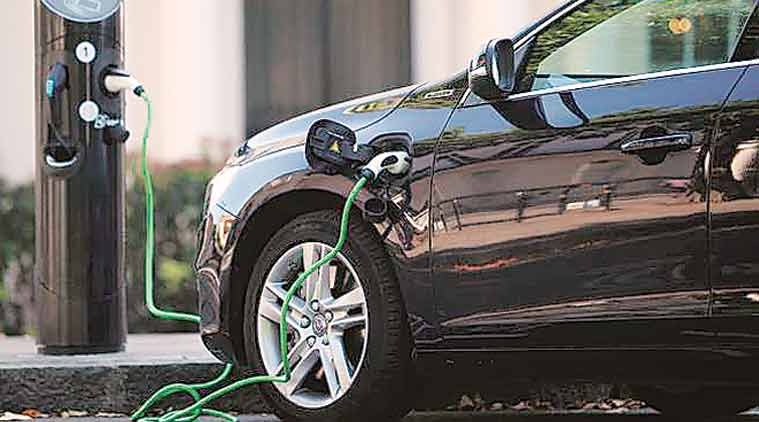Car: (194, 1, 759, 418)
